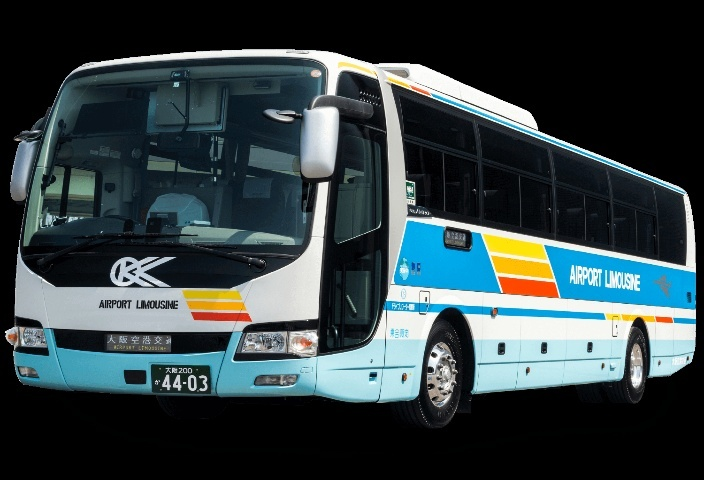bus: (9, 41, 704, 420)
